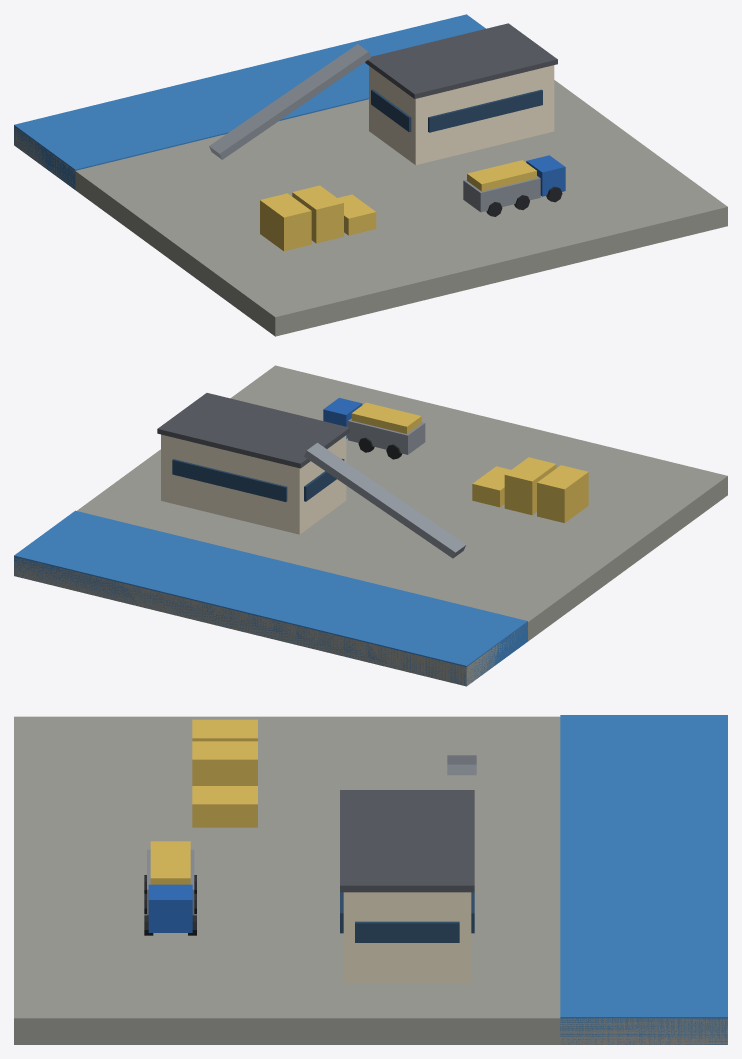
Rendered from agro_special_2.glb.
The picture shows the model from 3 angles, top to bottom: view 1: azimuth 30°, elevation 25°; view 2: azimuth 150°, elevation 25°; view 3: azimuth 270°, elevation 25°; orthographic projection. The views are drawn at different scales.
Visible parts, largest first — view 1: agro_special_2; view 2: agro_special_2; view 3: agro_special_2.
Boxes of the visible parts, x1=… form: agro_special_2: x1=14, y1=14, x2=727, y2=336; agro_special_2: x1=14, y1=365, x2=727, y2=686; agro_special_2: x1=14, y1=715, x2=727, y2=1044.
Size of the model in its own units: 1.96 by 0.4439 by 1.96.
